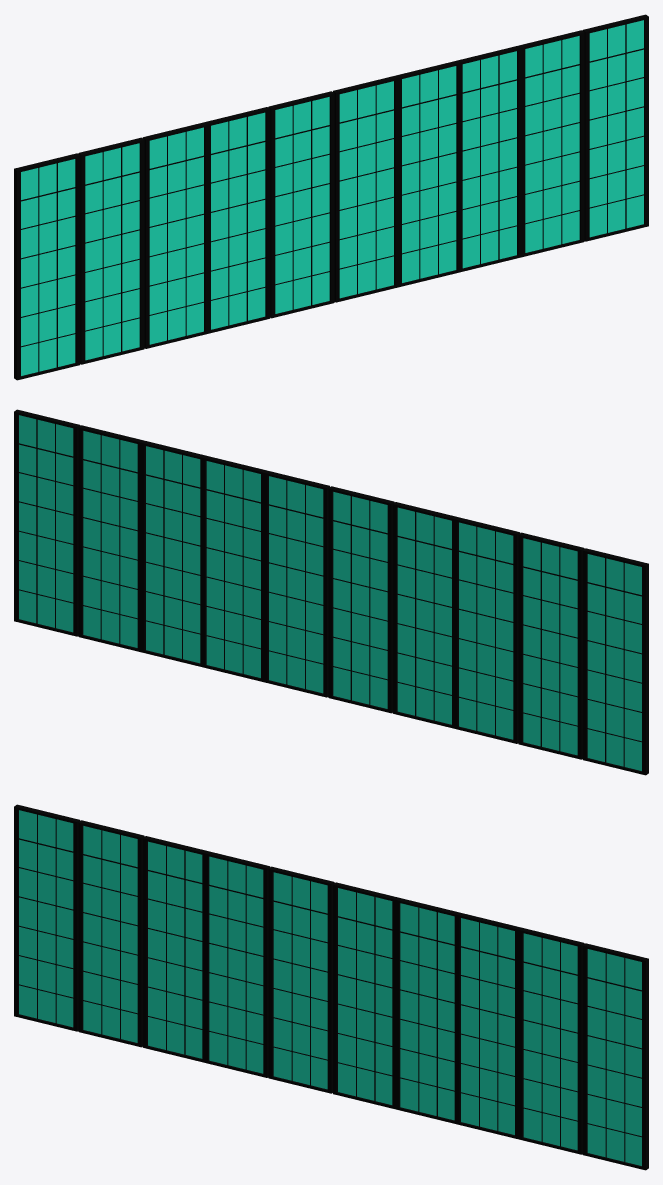
Rendered from paravents.FBX.
The picture shows the model from 3 angles, top to bottom: view 1: azimuth 30°, elevation 25°; view 2: azimuth 150°, elevation 25°; view 3: azimuth 330°, elevation 25°; orthographic projection.
Parts seen in each view (by area): view 1: Box275; view 2: Box275; view 3: Box275.
Part boxes in pixels (<box>): Box275: <box>14,14,648,380</box>; Box275: <box>14,409,648,775</box>; Box275: <box>14,804,648,1170</box>.
Size of the model in its own units: 939 by 297 by 7.83.
